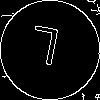L: (25, 25, 62, 75)
